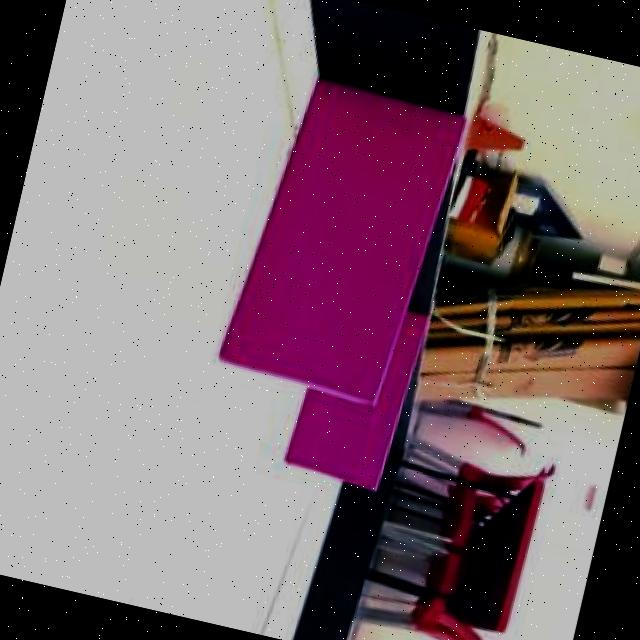xparking: (222, 72, 448, 403), (288, 393, 394, 486)
